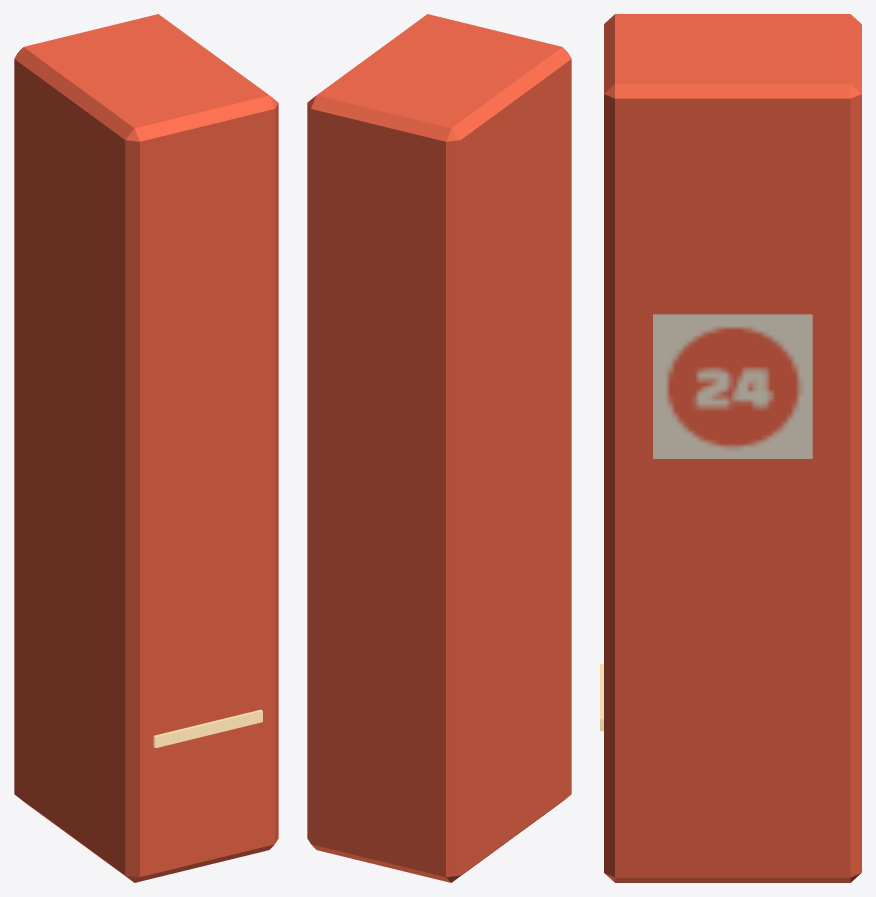
The model's file is SC_Bld_Store_Fascia_End_R.gltf.
3 renders of one model, left to right at view 1: azimuth 30°, elevation 25°; view 2: azimuth 150°, elevation 25°; view 3: azimuth 270°, elevation 25°, orthographic. The views are drawn at different scales.
Parts seen in each view (by area): view 1: SC_Bld_Store_Fascia_End_R; view 2: SC_Bld_Store_Fascia_End_R; view 3: SC_Bld_Store_Fascia_End_R.
Part boxes in pixels (left/top/right/bottom): SC_Bld_Store_Fascia_End_R: left=14, top=14, right=278, bottom=882; SC_Bld_Store_Fascia_End_R: left=307, top=14, right=571, bottom=882; SC_Bld_Store_Fascia_End_R: left=600, top=14, right=861, bottom=882.
Bounding box in the file's own units: 0.2015 × 0.94 × 0.279.
Materials: 3 (3 with a texture image).
